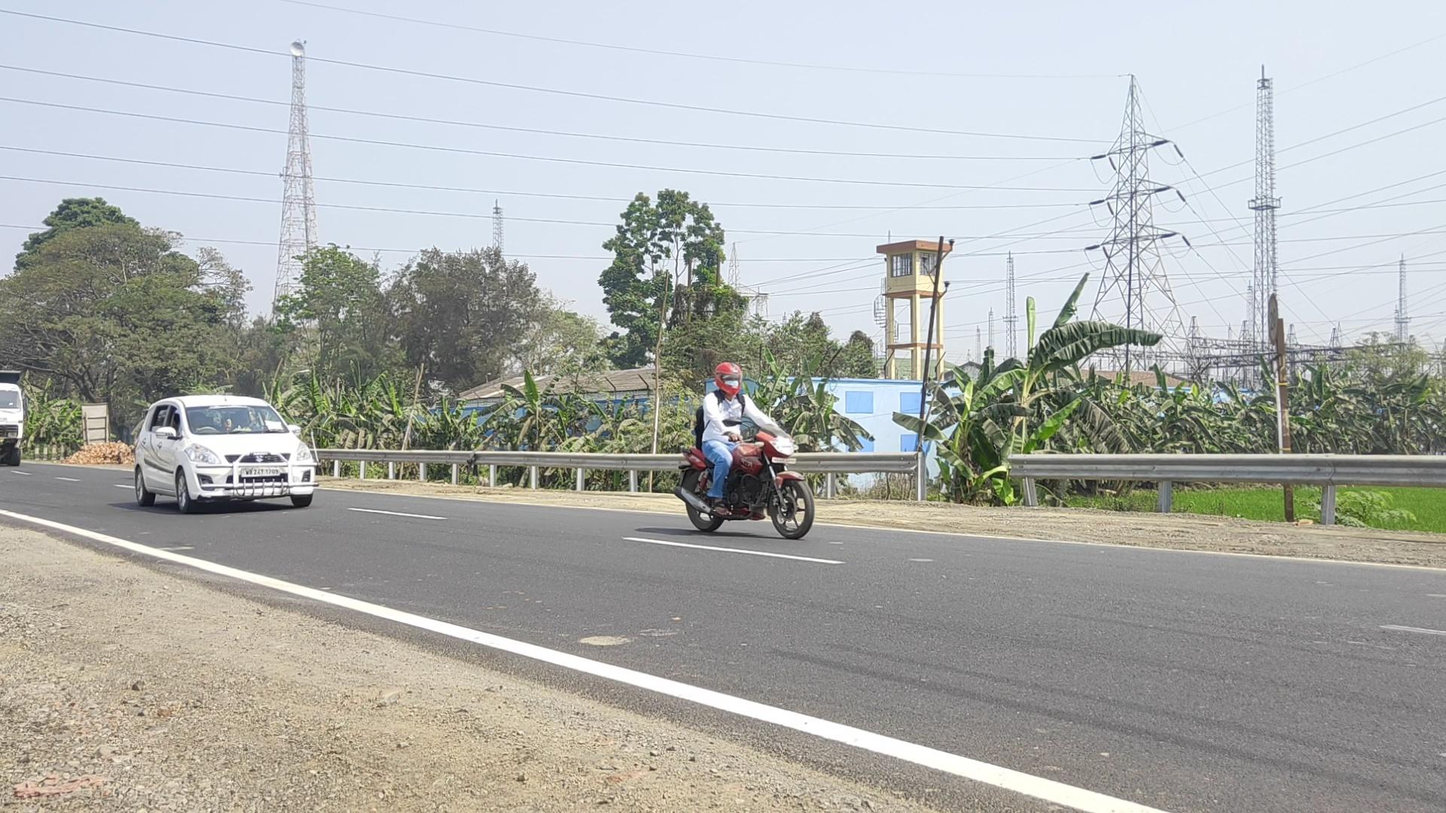bike: (674, 361, 816, 540)
car: (134, 394, 319, 514)
